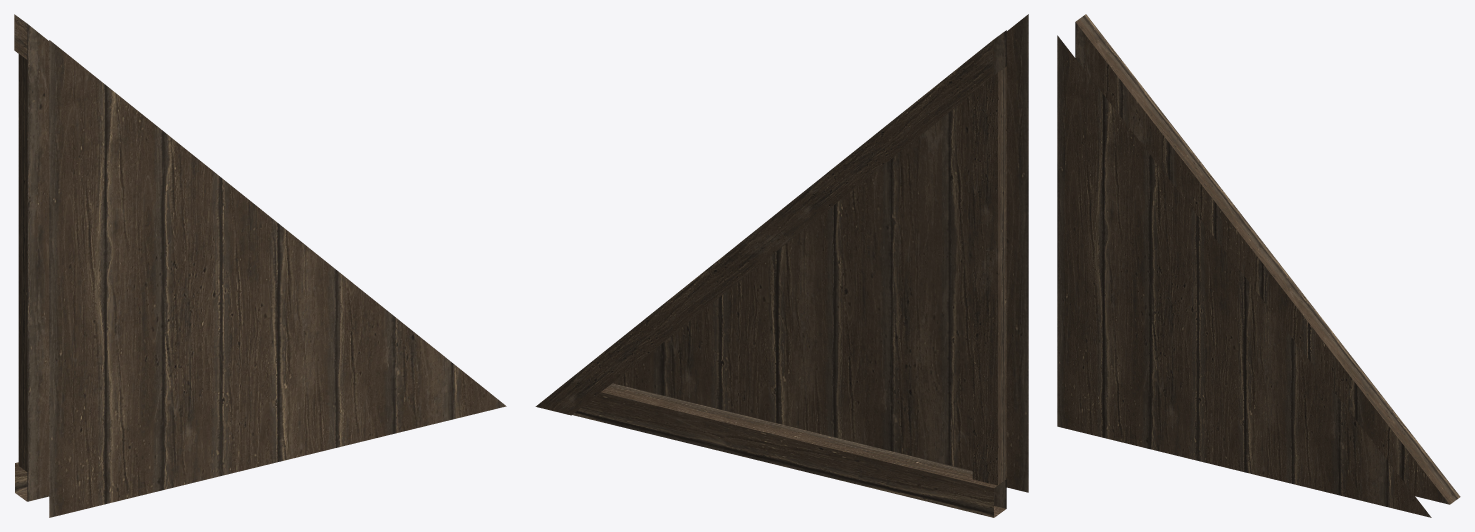
File: ARC1010292.fbx
The picture shows the model from 3 angles, left to right: view 1: azimuth 30°, elevation 25°; view 2: azimuth 150°, elevation 25°; view 3: azimuth 330°, elevation 25°; orthographic projection. The views are drawn at different scales.
Visible parts, largest first — view 1: smARC1010292; view 2: smARC1010292; view 3: smARC1010292.
Boxes of the visible parts, <box> form: smARC1010292: <box>14,14,506,517</box>; smARC1010292: <box>535,14,1028,517</box>; smARC1010292: <box>1057,14,1460,517</box>.
Bounding box in the file's own units: 268 × 268 × 35.62.
Materials: 1 (1 with a texture image).
